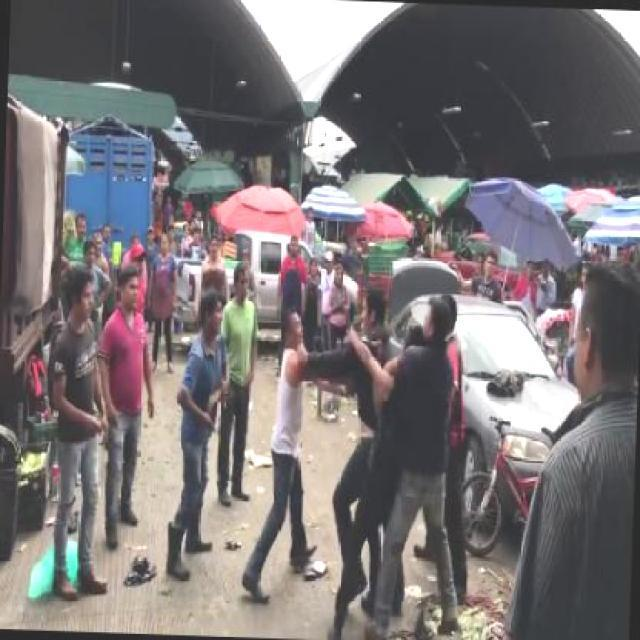fight: (240, 278, 398, 620)
